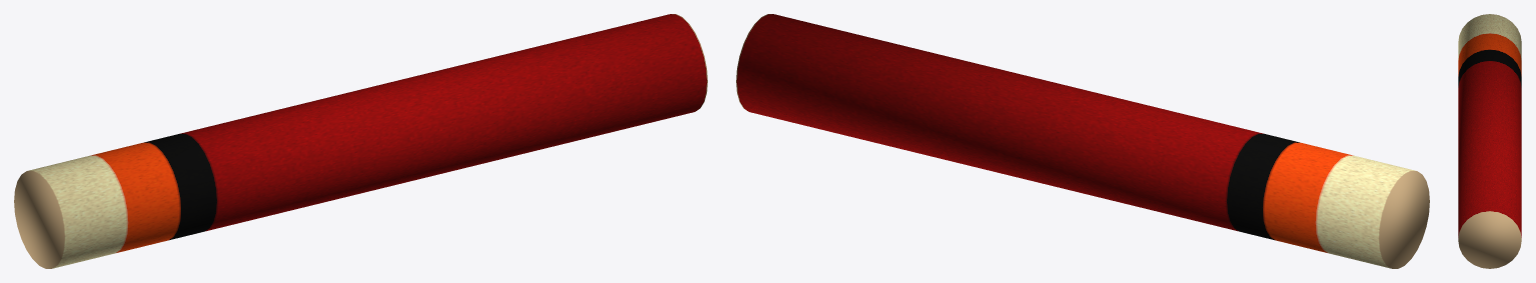
File: SignalSmoke_RoadFlareLit.fbx
3 renders of one model, left to right at view 1: azimuth 30°, elevation 25°; view 2: azimuth 150°, elevation 25°; view 3: azimuth 270°, elevation 25°, orthographic. The views are drawn at different scales.
Parts seen in each view (by area): view 1: SignalSmoke_RoadFlareLit; view 2: SignalSmoke_RoadFlareLit; view 3: SignalSmoke_RoadFlareLit.
Part boxes in pixels (left/top/right/bottom): SignalSmoke_RoadFlareLit: left=14, top=14, right=707, bottom=268; SignalSmoke_RoadFlareLit: left=736, top=14, right=1429, bottom=268; SignalSmoke_RoadFlareLit: left=1458, top=14, right=1521, bottom=268.
Bounding box in the file's own units: 50 × 6.8 × 6.8.
